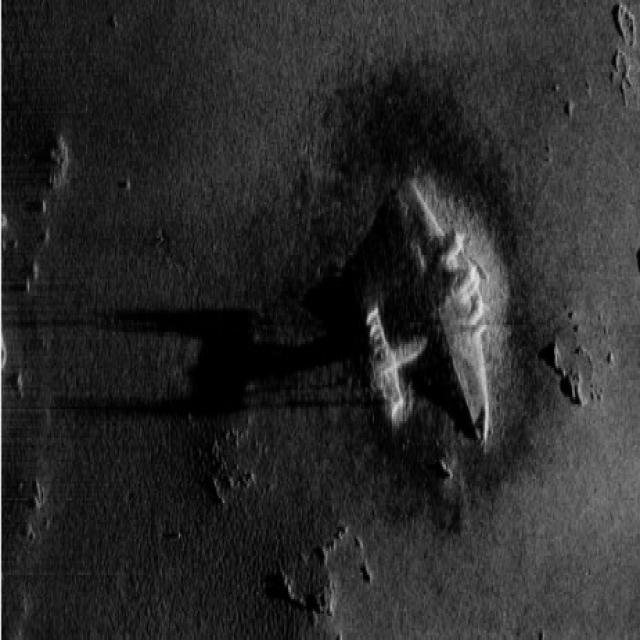plane: (350, 154, 512, 457)
